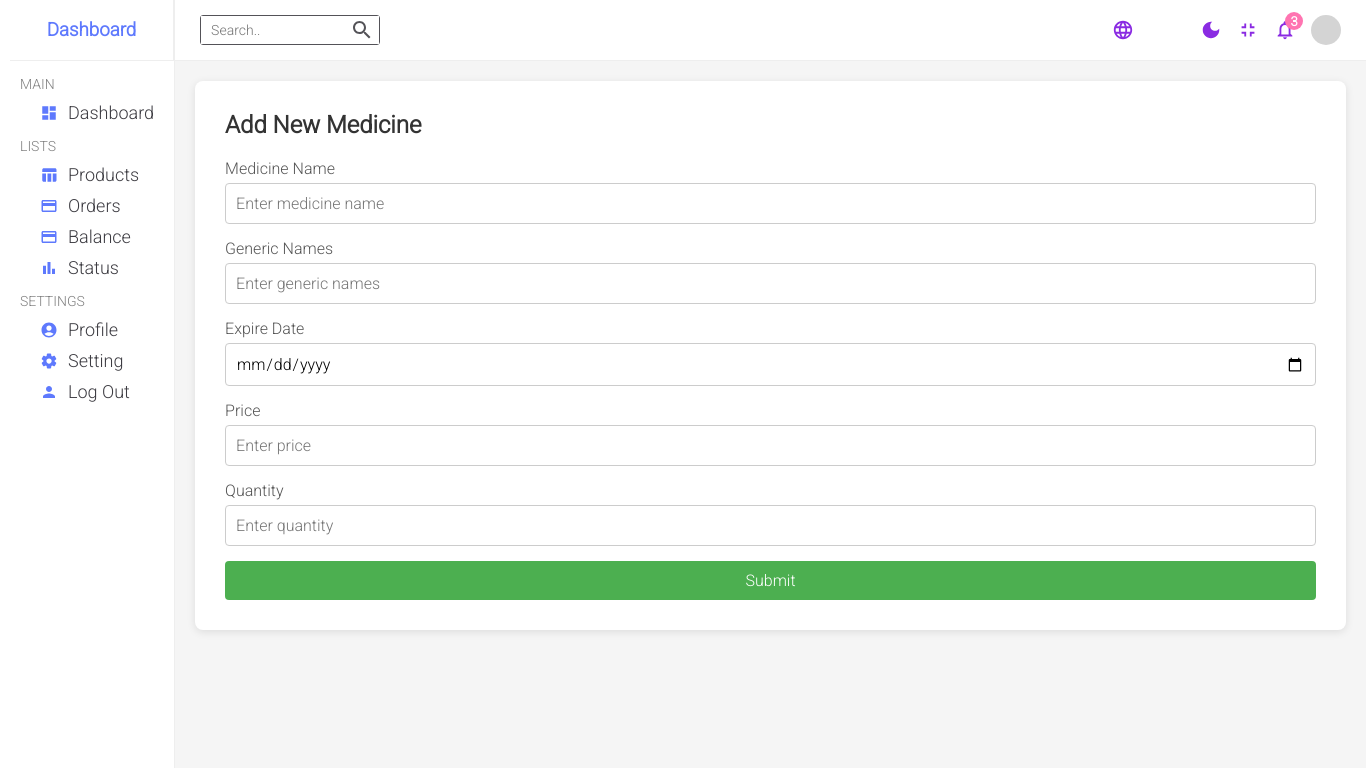
Test: AddNew Component › shows error message if form is submitted with empty inputs
This screenshot has width=1366, height=768.
Click the button "Submit" at coordinates (771, 580), box [225, 561, 1316, 600]
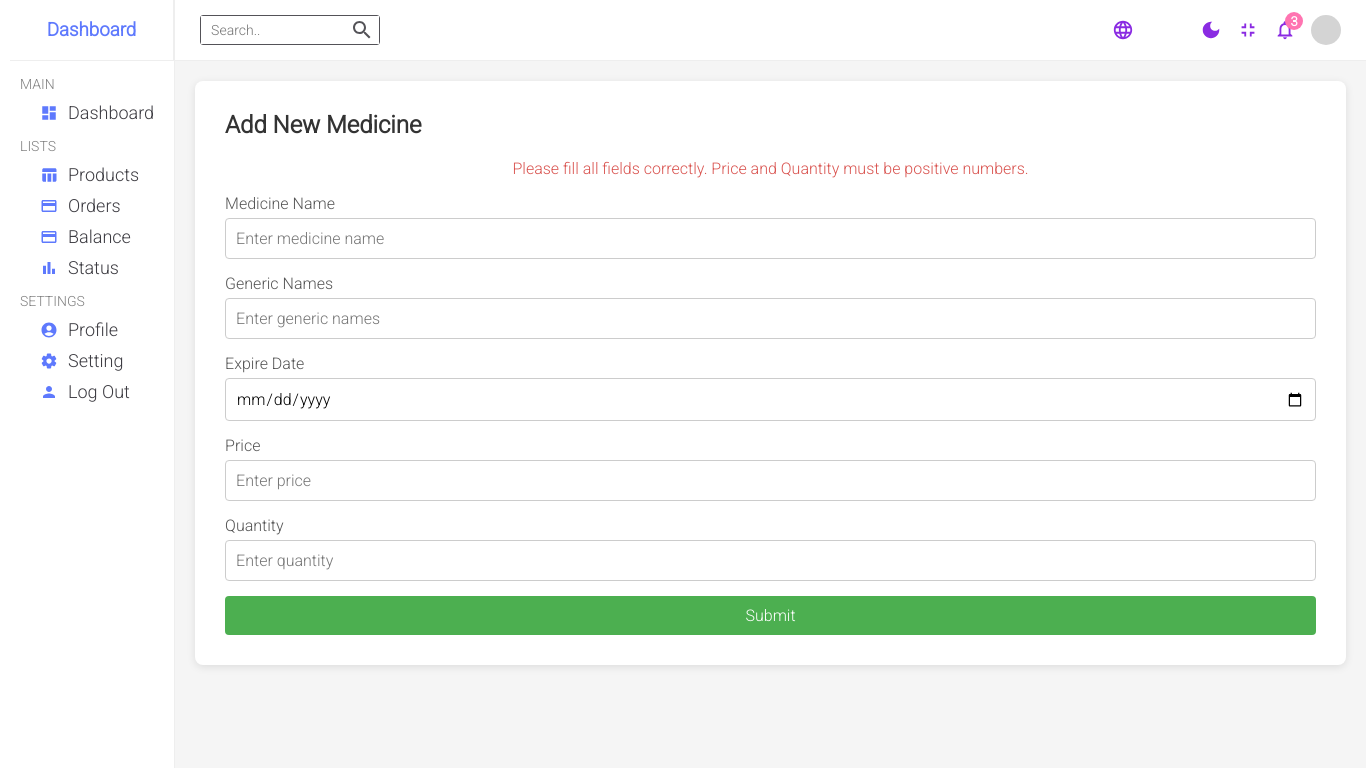
Now the text "Please fill all fields correctly" is shown, box [512, 159, 1029, 178]
